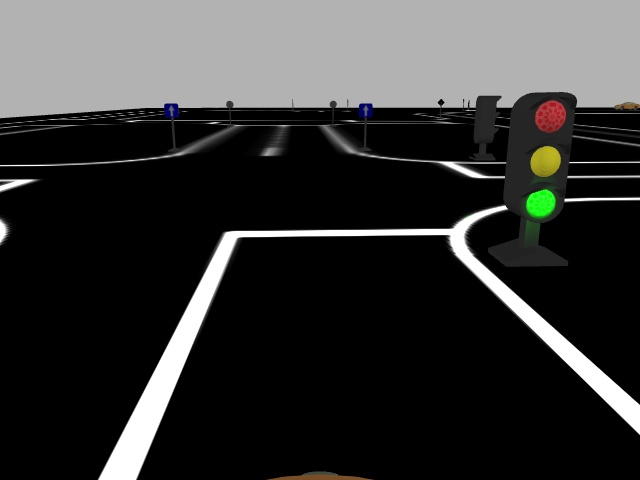green_light: (503, 92, 576, 224)
oneway: (163, 103, 179, 120), (358, 103, 375, 119)
